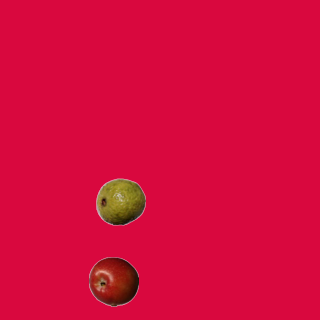Apple Braeburn: (88, 256, 138, 306)
Guava: (95, 176, 145, 226)
